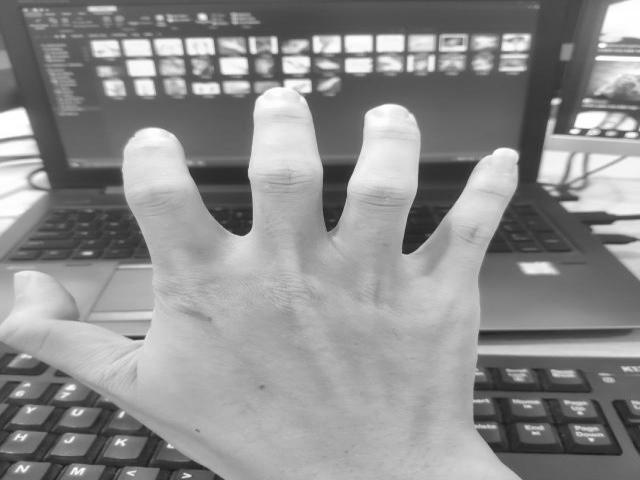not-gloved: (4, 92, 522, 458)
